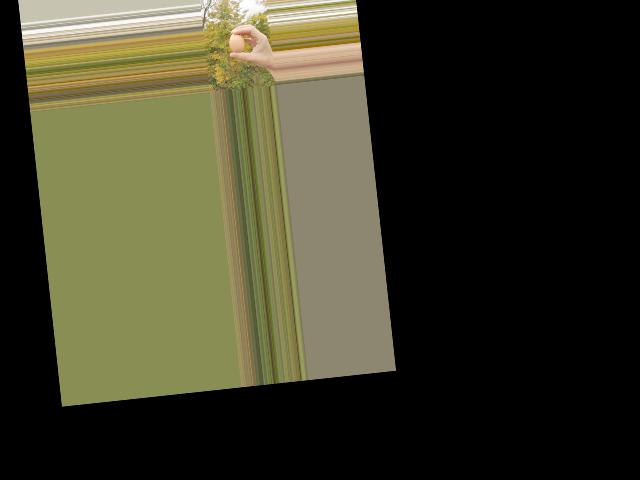egg: (228, 32, 245, 53)
